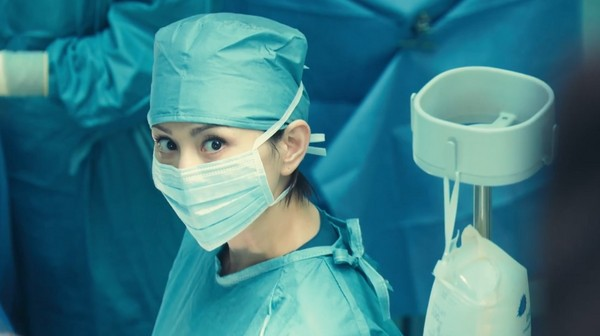mask: (152, 152, 276, 254)
